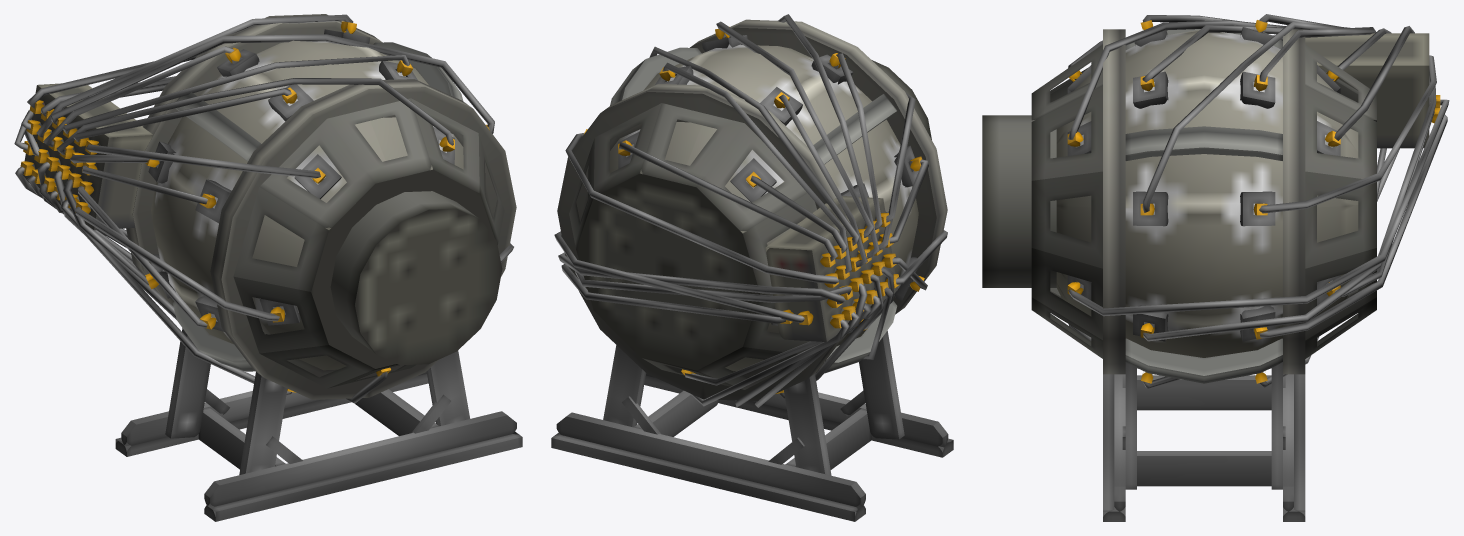
Rendered from gadget.obj.
3 views of the same model, side by side, from view 1: azimuth 30°, elevation 25°; view 2: azimuth 150°, elevation 25°; view 3: azimuth 270°, elevation 25° (orthographic). The views are drawn at different scales.
Visible parts, largest first — view 1: Body, Wires; view 2: Body, Wires; view 3: Body, Wires.
Boxes of the visible parts, <box> form: Body: <box>20,14,522,521</box>; Wires: <box>14,14,513,403</box>; Body: <box>551,19,953,521</box>; Wires: <box>554,14,947,407</box>; Body: <box>982,20,1440,521</box>; Wires: <box>1068,14,1449,389</box>.
Bounding box in the file's own units: 2.3 × 2.49 × 2.6.
